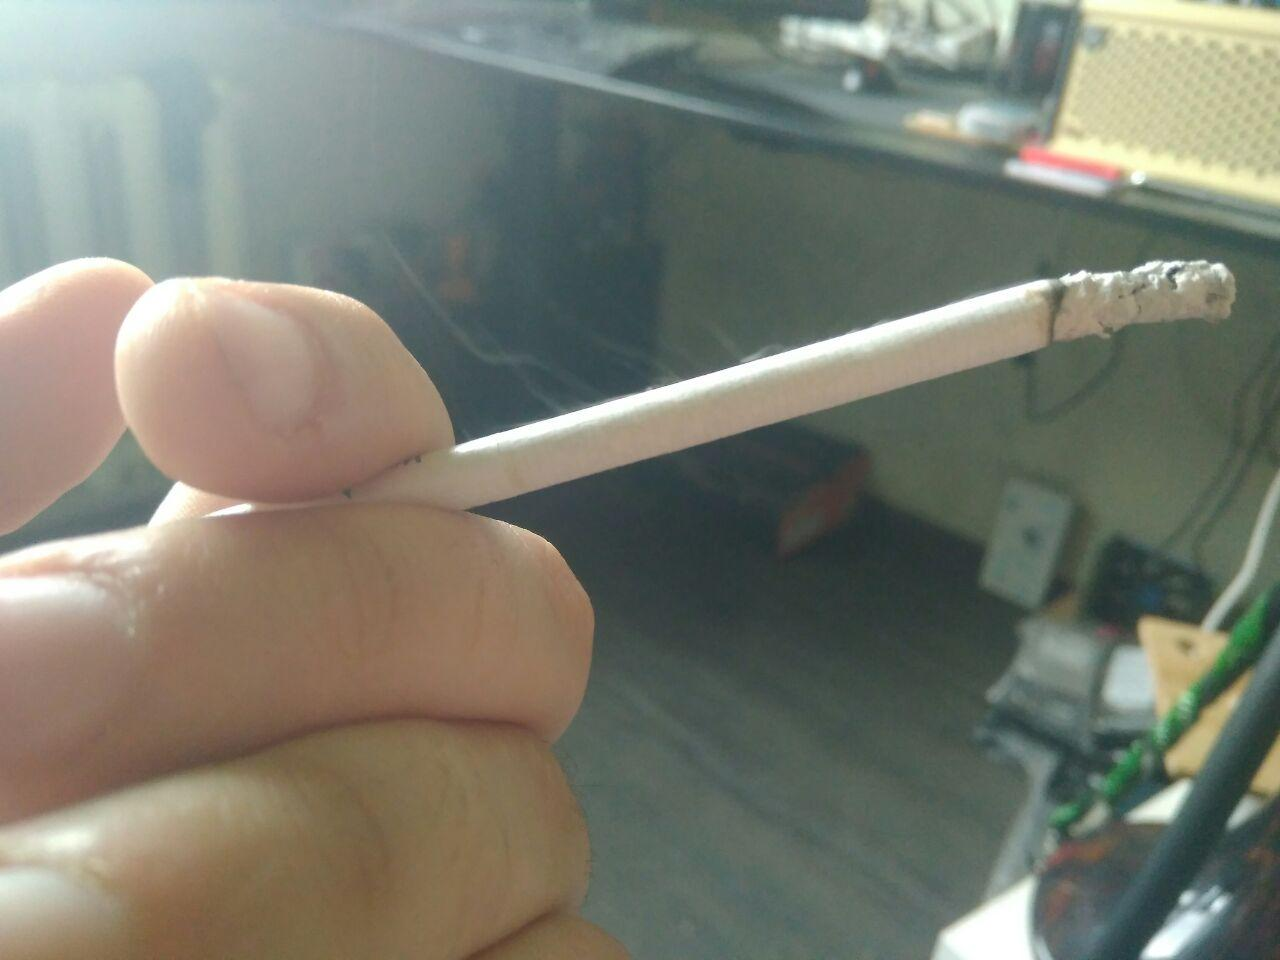cigarette: (328, 260, 1235, 510)
